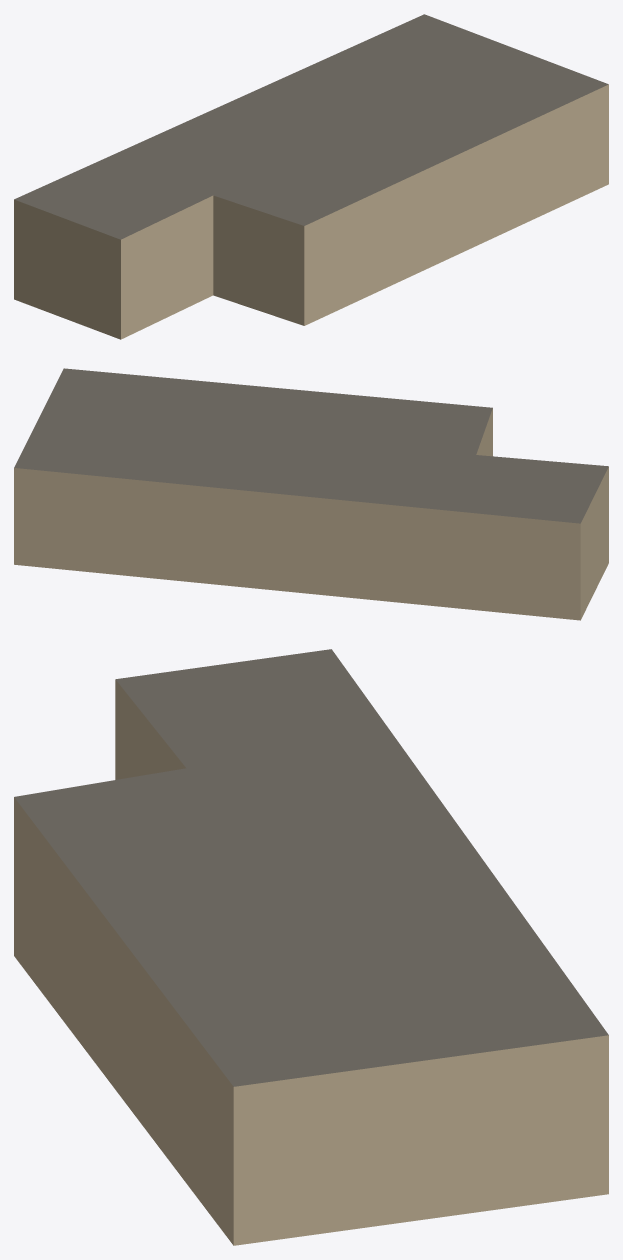
The picture shows the model from 3 angles, top to bottom: view 1: azimuth 30°, elevation 25°; view 2: azimuth 150°, elevation 25°; view 3: azimuth 270°, elevation 25°; orthographic projection. The views are drawn at different scales.
Parts seen in each view (by area): view 1: HP-w534130925; view 2: HP-w534130925; view 3: HP-w534130925.
Boxes of the visible parts, box(x1,y1,x2,y2) form: HP-w534130925: box(14, 14, 608, 339); HP-w534130925: box(14, 368, 608, 620); HP-w534130925: box(14, 649, 608, 1245).
Size of the model in its own units: 77.94 by 13.2 by 44.77.
